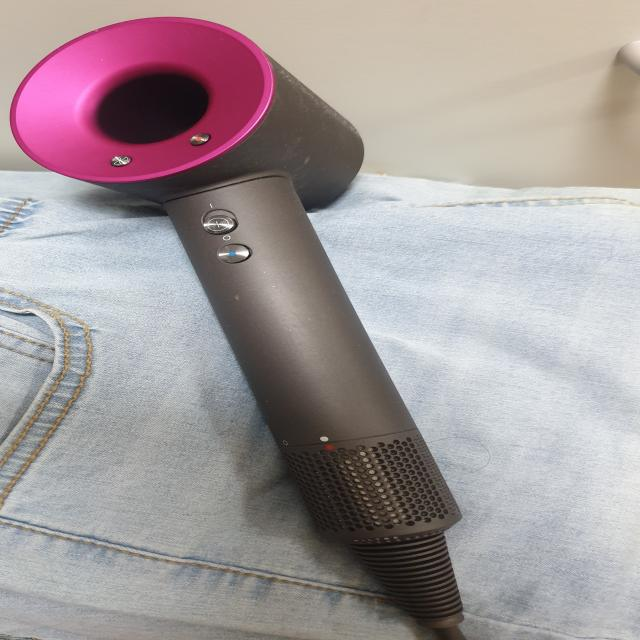dryer: (9, 15, 467, 640)
